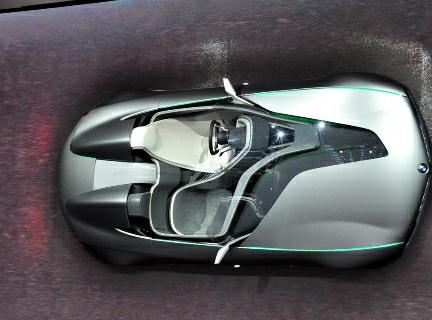宝马-ConnectedDrive: (52, 71, 432, 276)
